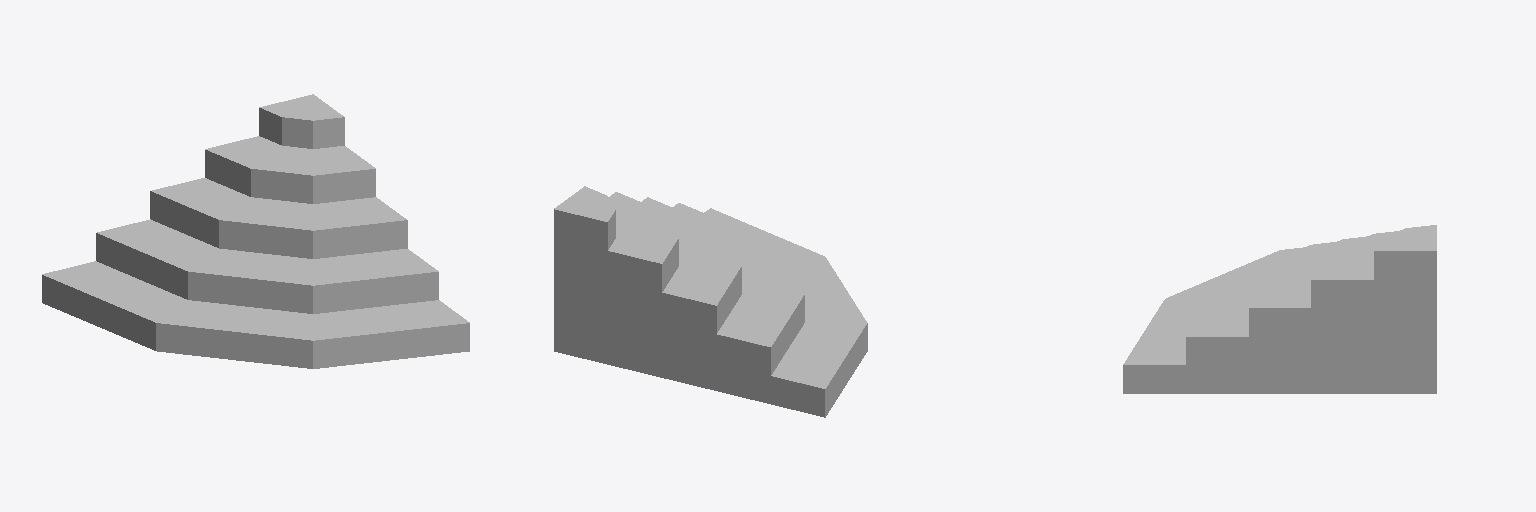
Rendered from Steps_Curved_Convex.obj.
The picture shows the model from 3 angles: view 1: azimuth 30°, elevation 25°; view 2: azimuth 150°, elevation 25°; view 3: azimuth 270°, elevation 25°; orthographic projection.
Parts seen in each view (by area): view 1: object1; view 2: object1; view 3: object1.
Boxes of the visible parts, box(x1,y1,x2,y2) form: object1: box(42, 94, 469, 368); object1: box(554, 186, 867, 417); object1: box(1123, 225, 1436, 393).
Size of the model in its own units: 1 by 0.5 by 1.